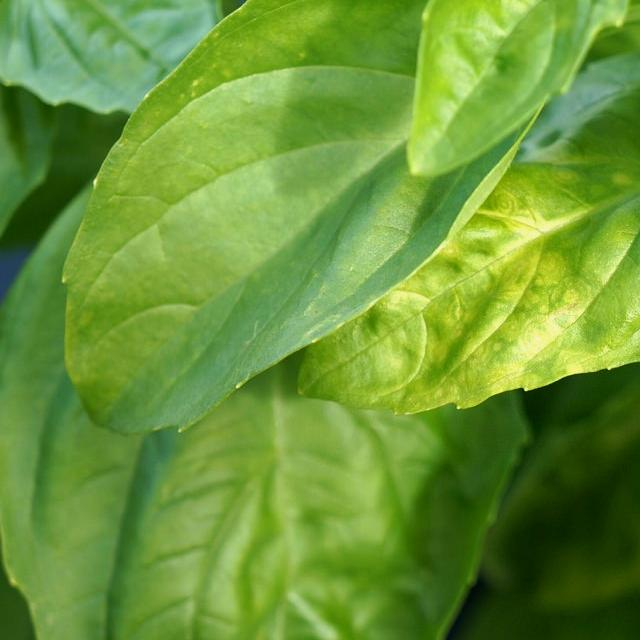Tomato leaf: (61, 0, 496, 435), (294, 54, 640, 412)
